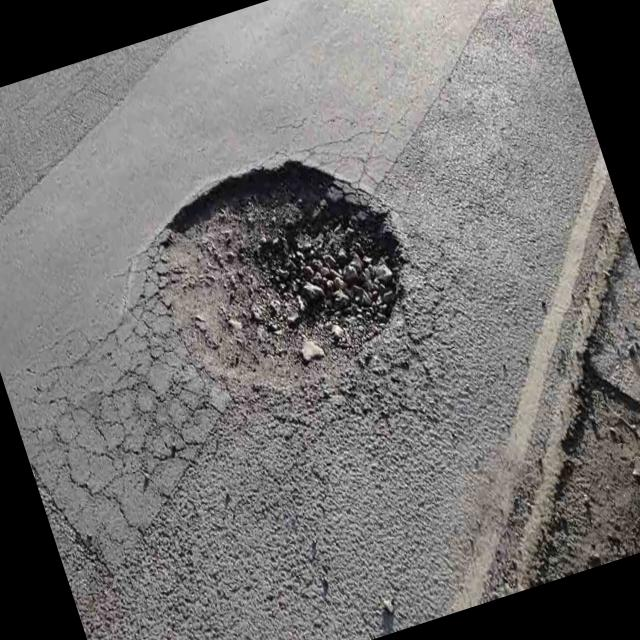Potholes: (100, 109, 472, 462)
